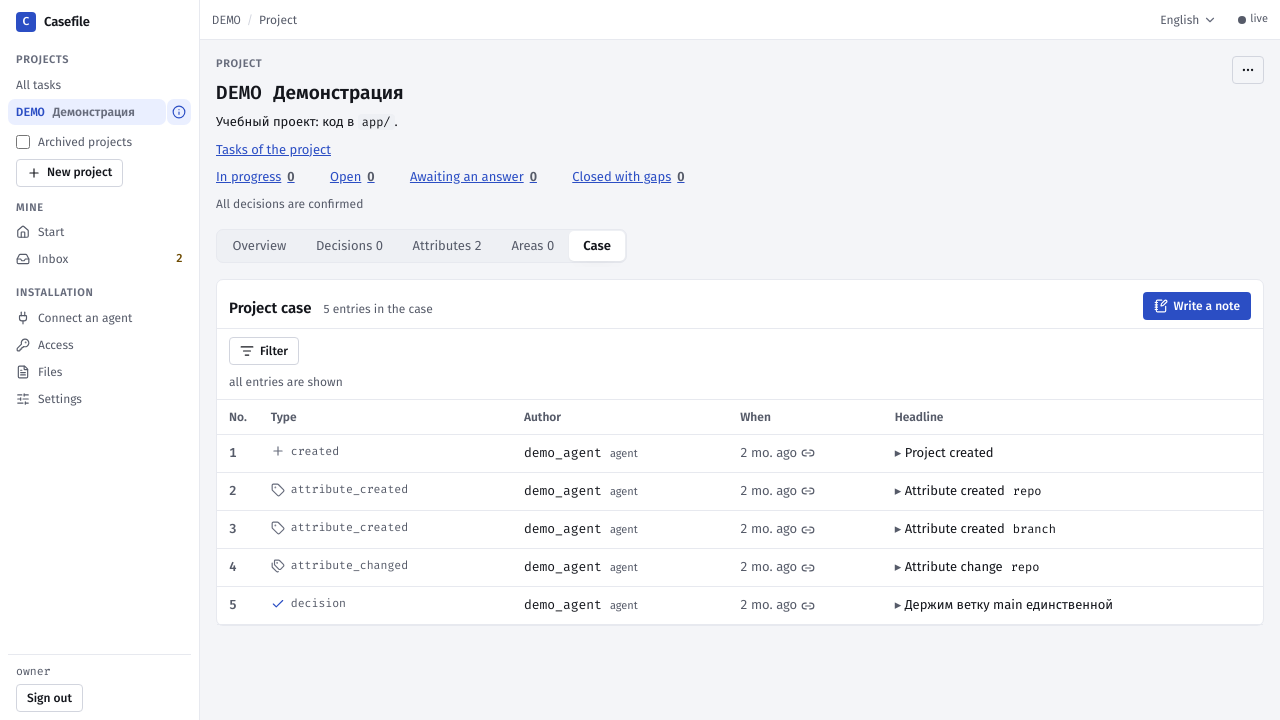
Test: экран проекта › клик по записи описи читает её тело адресом записи проекта и пишет номер в адрес
The image size is (1280, 720).
Click the button "Держим ветку main единственной".
click(1004, 605)  # box x1=895 y1=595 x2=1113 y2=615
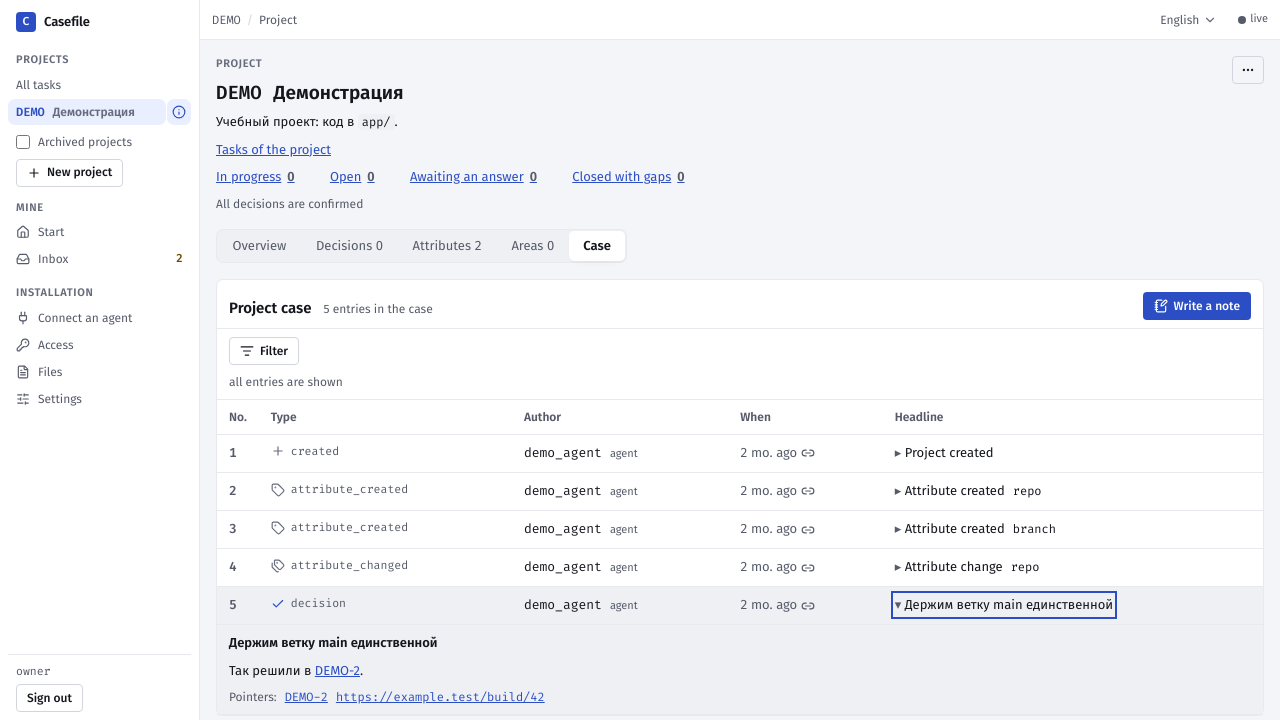
Check: the text "Так решили в DEMO-2 ." is shown, box x1=229 y1=663 x2=363 y2=678
